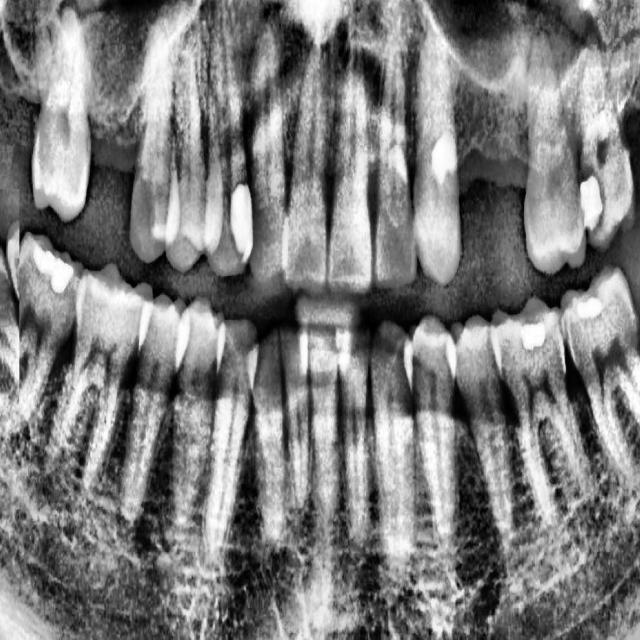Impacted Tooth: (0, 189, 19, 406)
